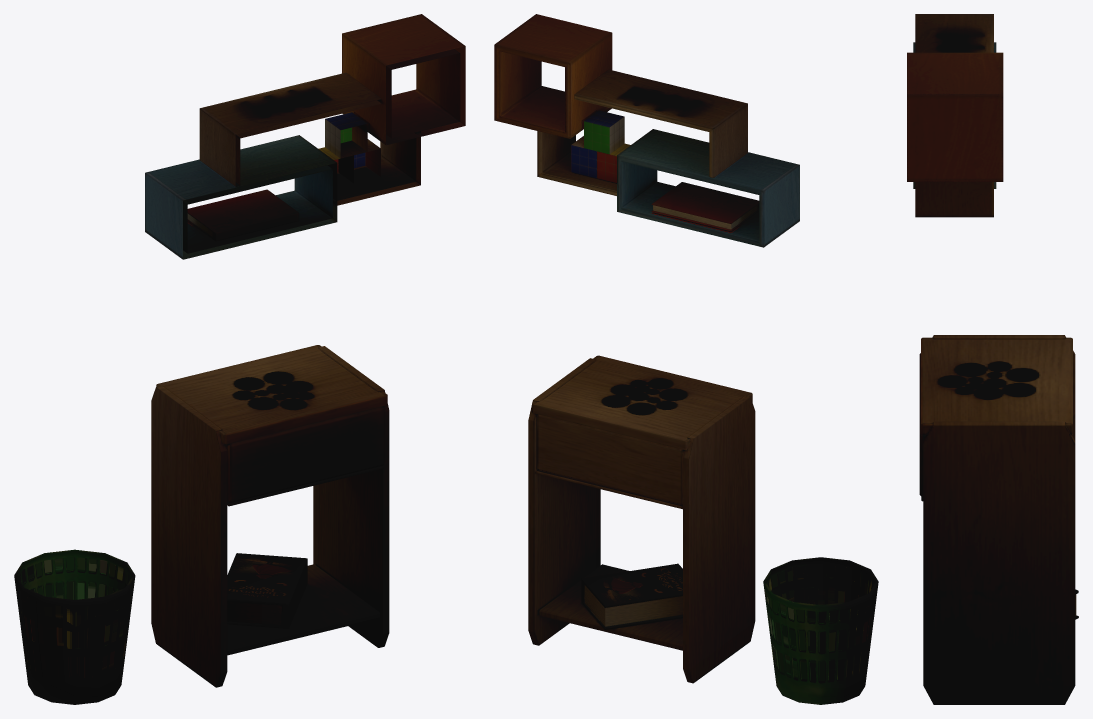
File: G2_SM_chevetetager_muralcorbeille_combined.gltf
3 renders of one model, left to right at view 1: azimuth 30°, elevation 25°; view 2: azimuth 150°, elevation 25°; view 3: azimuth 270°, elevation 25°, orthographic. The views are drawn at different scales.
Parts seen in each view (by area): view 1: table_chevet+etager_mural+corbeille_bake; view 2: table_chevet+etager_mural+corbeille_bake; view 3: table_chevet+etager_mural+corbeille_bake.
Part boxes in pixels (x1=…): table_chevet+etager_mural+corbeille_bake: x1=14, y1=14, x2=465, y2=704; table_chevet+etager_mural+corbeille_bake: x1=494, y1=14, x2=878, y2=704; table_chevet+etager_mural+corbeille_bake: x1=907, y1=14, x2=1078, y2=704.
Bounding box in the file's own units: 0.9725 × 1.38 × 0.3333.
Materials: 1 (1 with a texture image).
